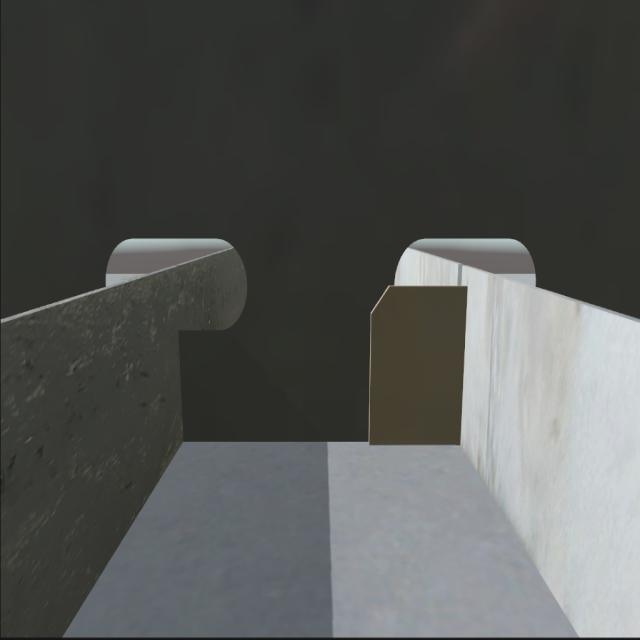fillet_yong_jeop_jang: (178, 432, 468, 454)
longi_yong_jeop_jang: (172, 322, 194, 452), (456, 280, 470, 452)
plate_CP03: (363, 284, 468, 446)
